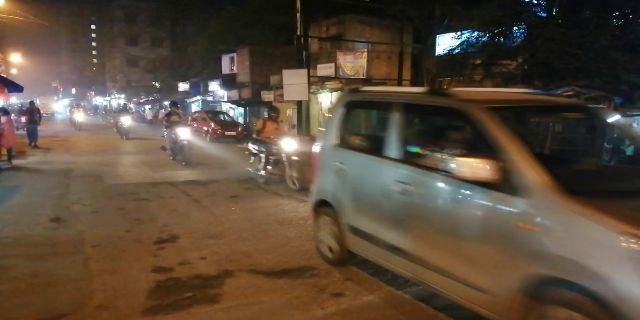Car: (324, 85, 618, 307)
Motorbike: (239, 105, 303, 192), (159, 98, 197, 162), (114, 113, 137, 143)
